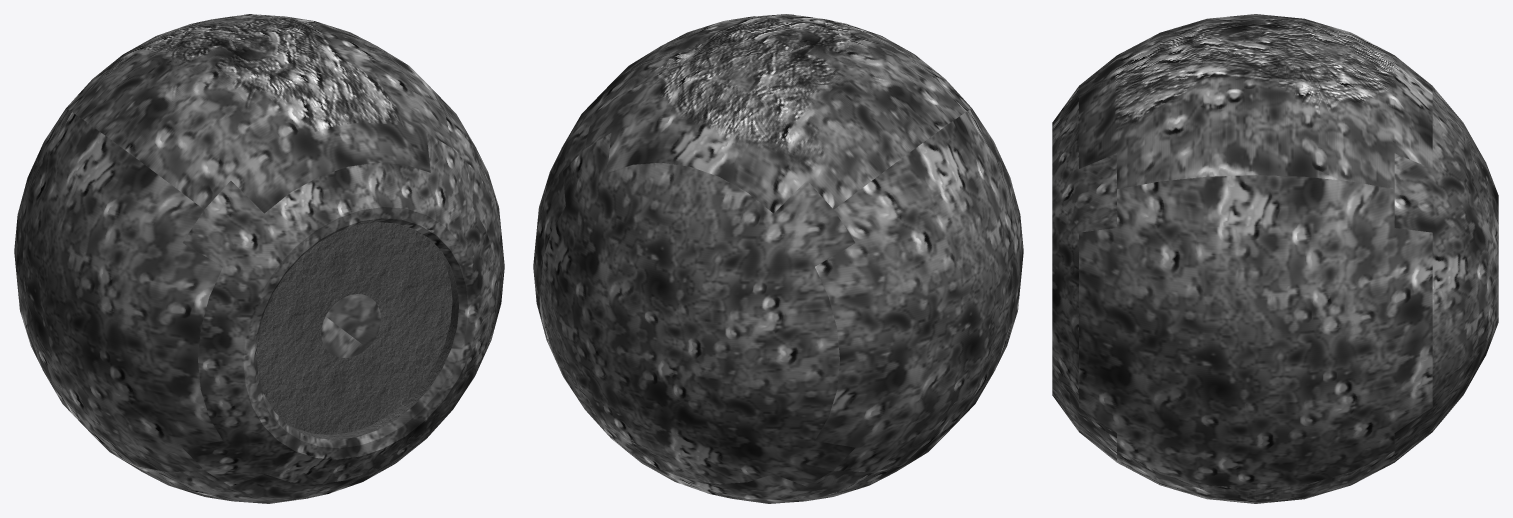
Rendered from jaguar_company_base_turret_ball.obj.
The picture shows the model from 3 angles, left to right: view 1: azimuth 30°, elevation 25°; view 2: azimuth 150°, elevation 25°; view 3: azimuth 270°, elevation 25°; orthographic projection.
Visible parts, largest first — view 1: jaguar_company_base_turret_ball; view 2: jaguar_company_base_turret_ball; view 3: jaguar_company_base_turret_ball.
Boxes of the visible parts, box(x1,y1,x2,y2) form: jaguar_company_base_turret_ball: box(14, 14, 504, 503); jaguar_company_base_turret_ball: box(533, 14, 1023, 503); jaguar_company_base_turret_ball: box(1052, 14, 1498, 503).
Bounding box in the file's own units: 24 × 24 × 21.86.
